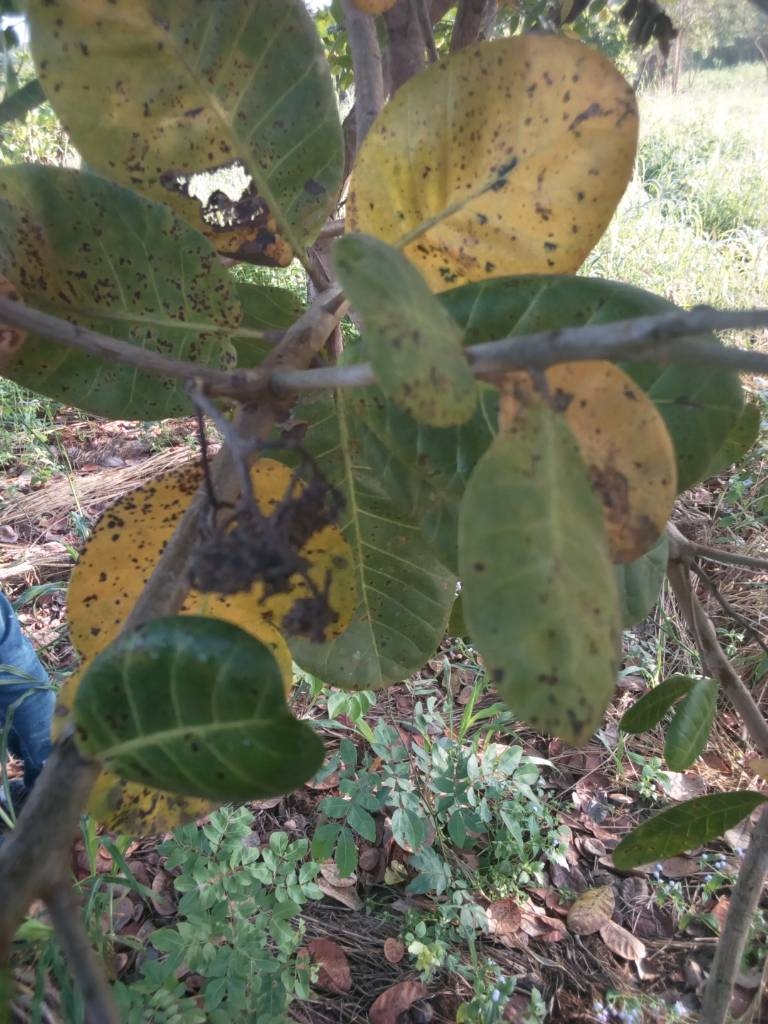Anthracnose: (13, 1, 340, 264), (343, 35, 636, 308), (1, 157, 252, 422), (461, 385, 627, 749), (82, 610, 330, 808), (500, 352, 686, 564)
